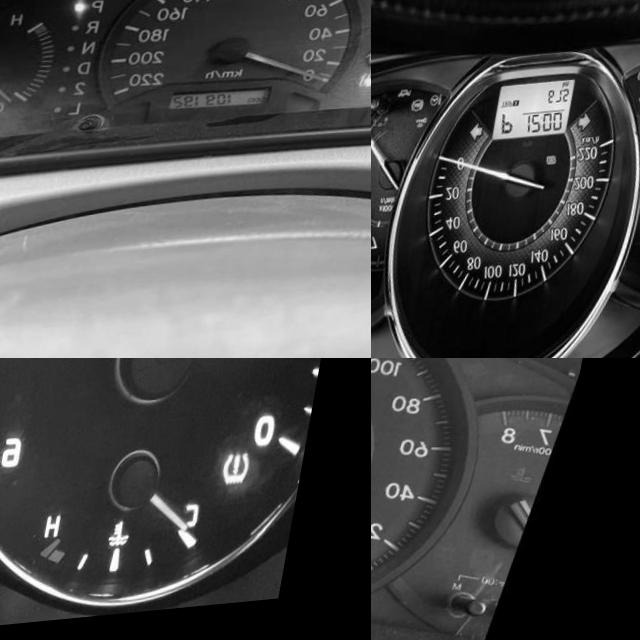Electronic Power Steering: (435, 97, 450, 112)
